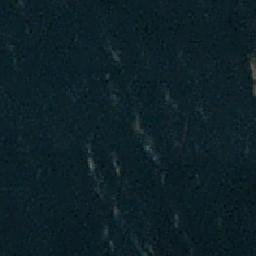debris: (82, 148, 103, 185), (126, 231, 154, 256), (135, 123, 157, 153), (173, 121, 187, 148), (248, 57, 256, 100), (153, 154, 166, 171), (113, 152, 122, 176), (169, 213, 181, 231), (81, 132, 93, 149), (31, 167, 44, 180), (111, 50, 121, 66), (109, 94, 122, 105), (114, 205, 121, 225), (162, 88, 172, 101), (193, 171, 203, 183), (243, 145, 252, 158), (107, 237, 115, 250), (198, 105, 208, 114), (101, 228, 109, 238), (192, 143, 199, 154)
